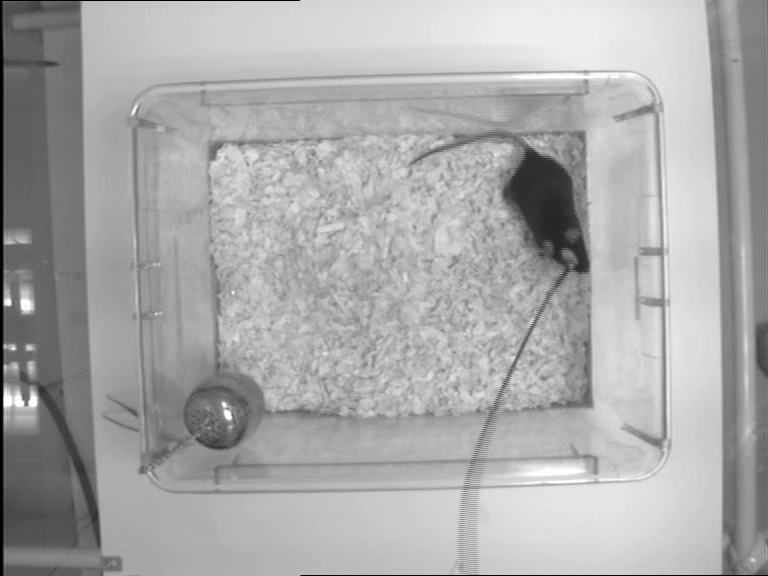mice: (409, 128, 591, 273)
